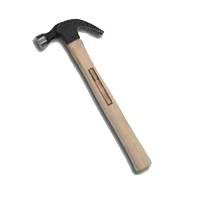hammer: (31, 17, 152, 175)
